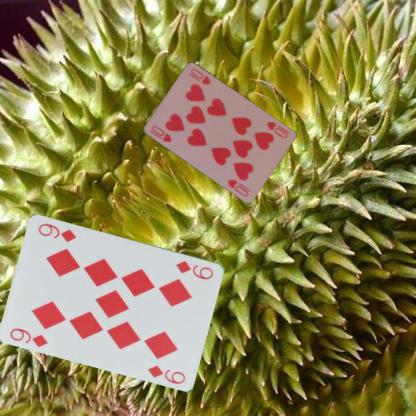10h: (147, 122, 173, 144), (263, 119, 290, 140)
9d: (173, 258, 215, 280), (8, 326, 49, 348)
